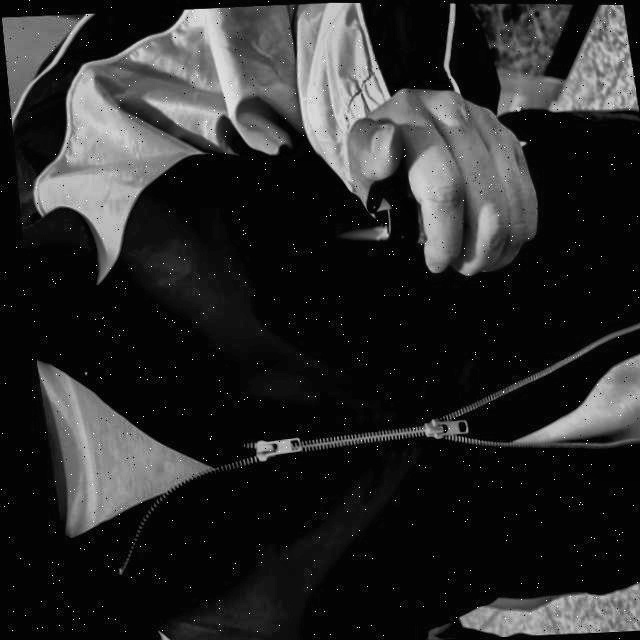Fire: (320, 221, 379, 244)
